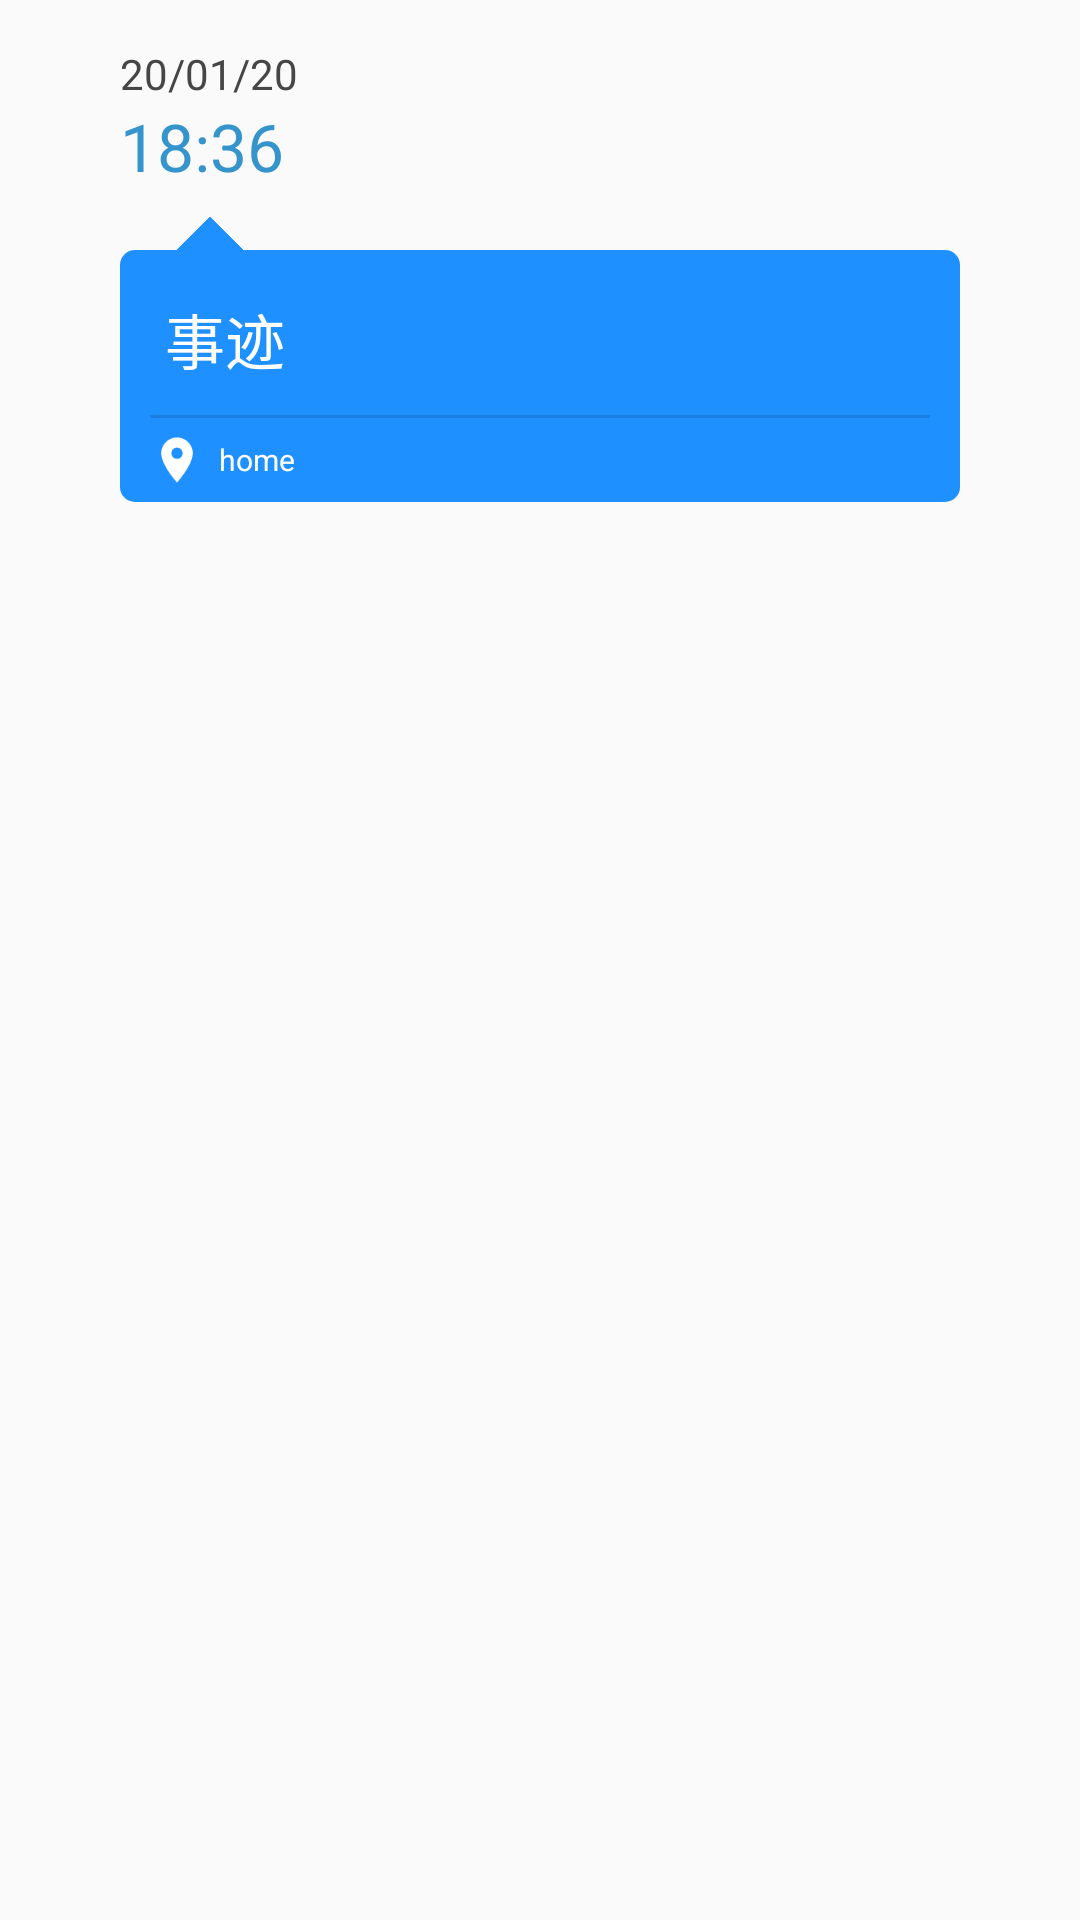

Where to tap for icons on this 1080×1920 app screen, as (x=x, y=y):
map marker: (x=177, y=460)
